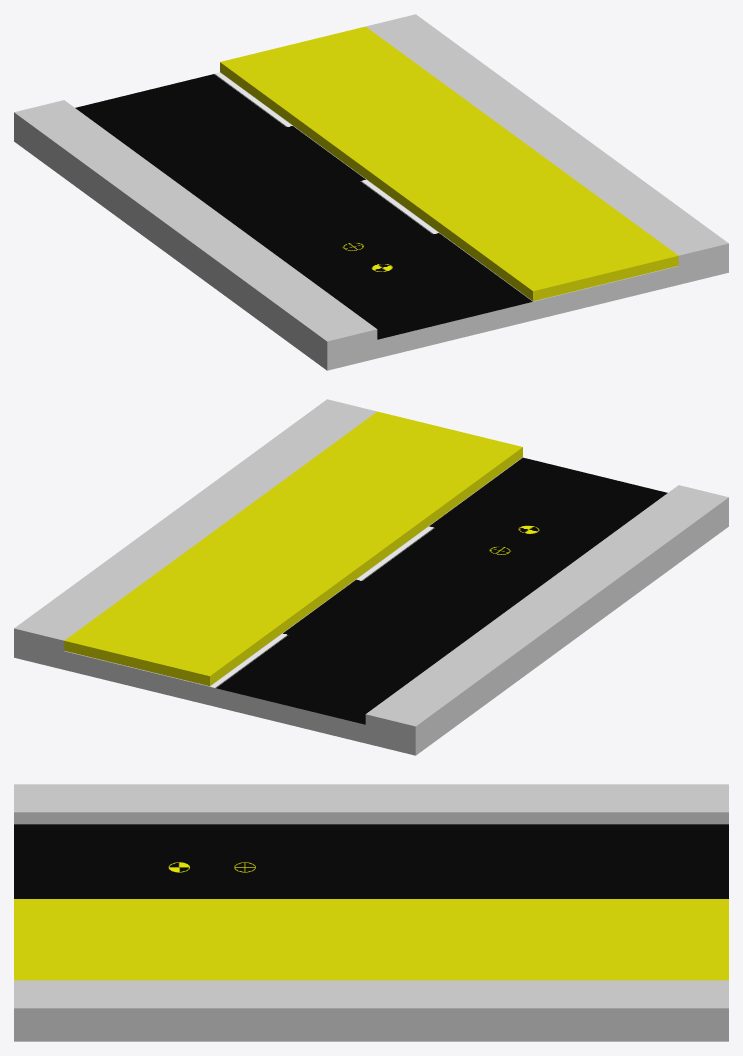
The picture shows the model from 3 angles, top to bottom: view 1: azimuth 30°, elevation 25°; view 2: azimuth 150°, elevation 25°; view 3: azimuth 270°, elevation 25°; orthographic projection. The views are drawn at different scales.
Parts seen in each view (by area): view 1: Model; view 2: Model; view 3: Model.
Part boxes in pixels (bbox=[...]): Model: bbox=[14, 14, 728, 370]; Model: bbox=[14, 399, 728, 755]; Model: bbox=[14, 784, 728, 1041].
Bounding box in the file's own units: 0.8 × 1.08 × 0.0556.
Materials: 4 (1 with a texture image).
